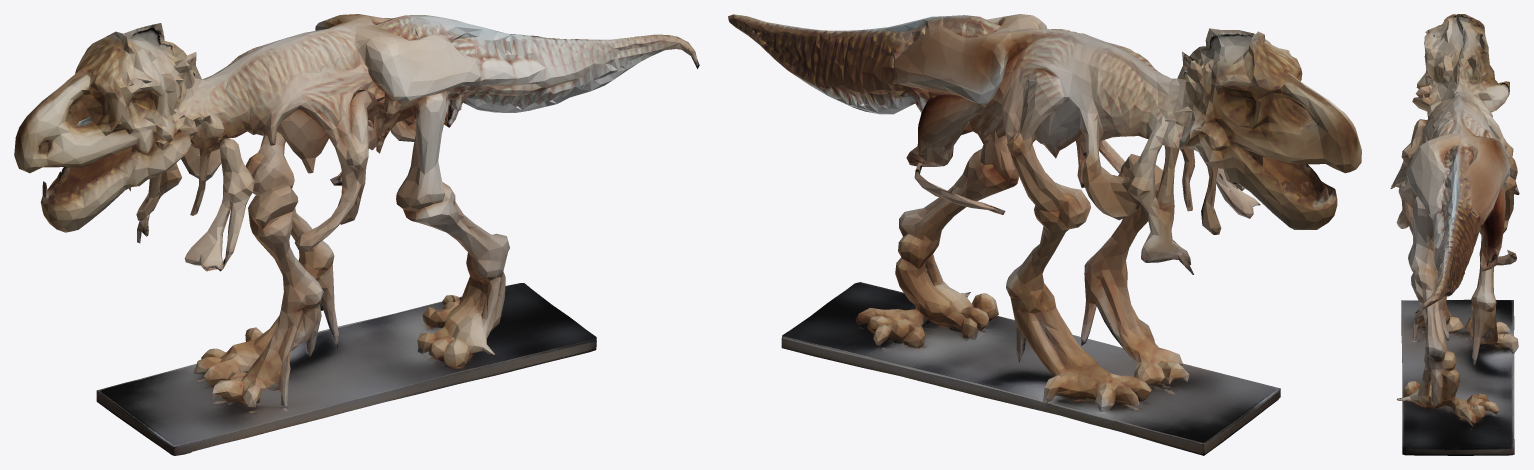
3 renders of one model, left to right at view 1: azimuth 30°, elevation 25°; view 2: azimuth 150°, elevation 25°; view 3: azimuth 270°, elevation 25°, orthographic. The views are drawn at different scales.
Visible parts, largest first — view 1: world; view 2: world; view 3: world.
Part boxes in pixels (x1,y1,x2,y2): world: [14, 14, 699, 455]; world: [728, 14, 1361, 455]; world: [1390, 14, 1519, 455].
Size of the model in its own units: 1 by 0.5858 by 0.2365.
Materials: 1 (1 with a texture image).
